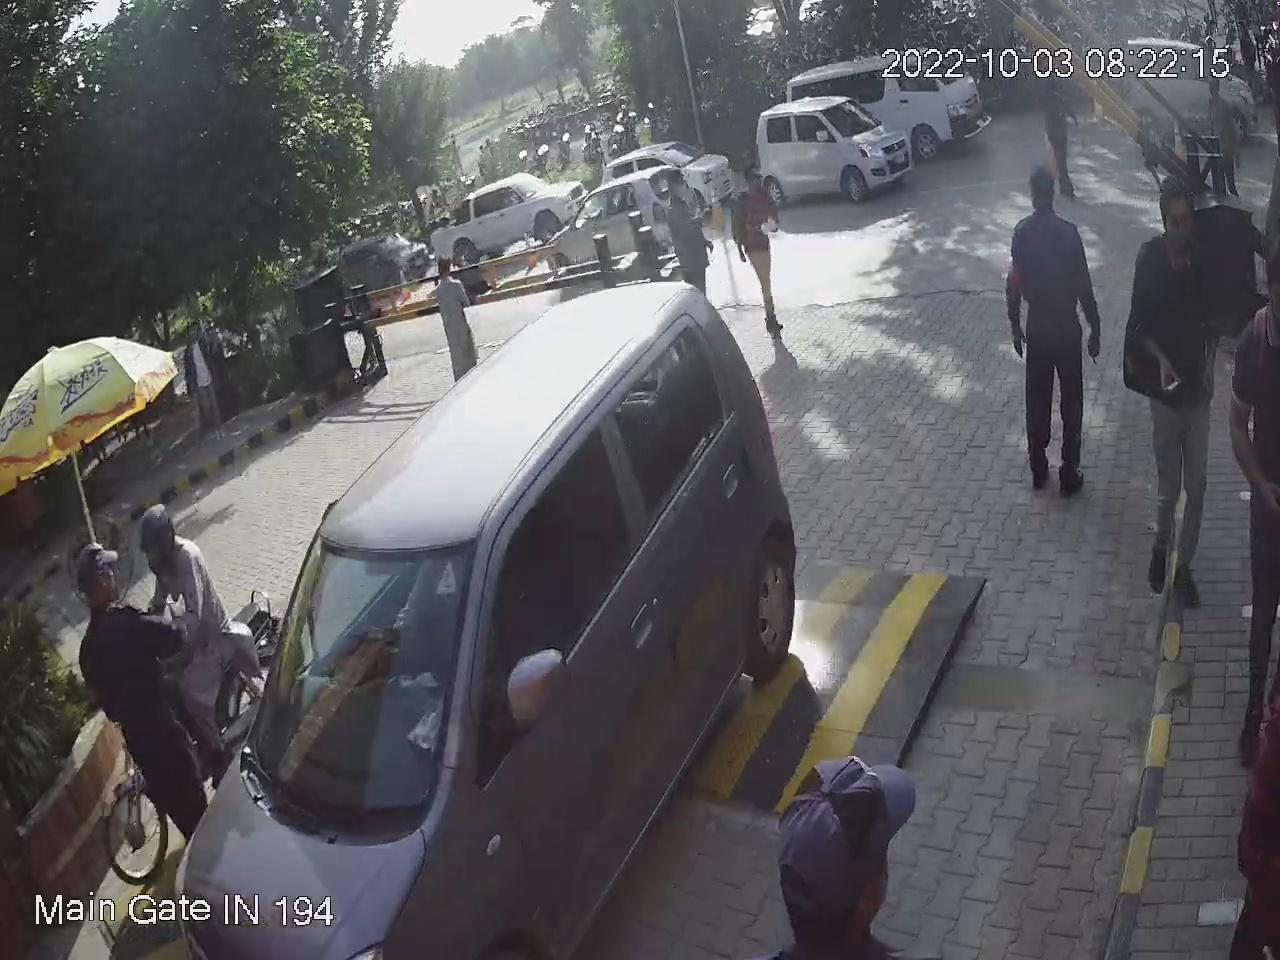windshield: (231, 527, 481, 838)
